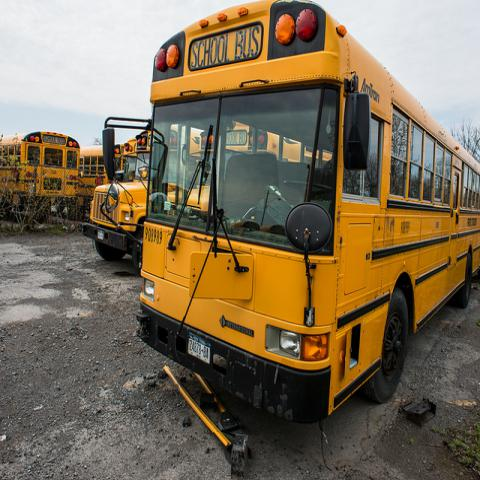bus: (102, 1, 479, 421), (84, 139, 147, 264), (0, 130, 80, 221), (77, 144, 121, 206)
